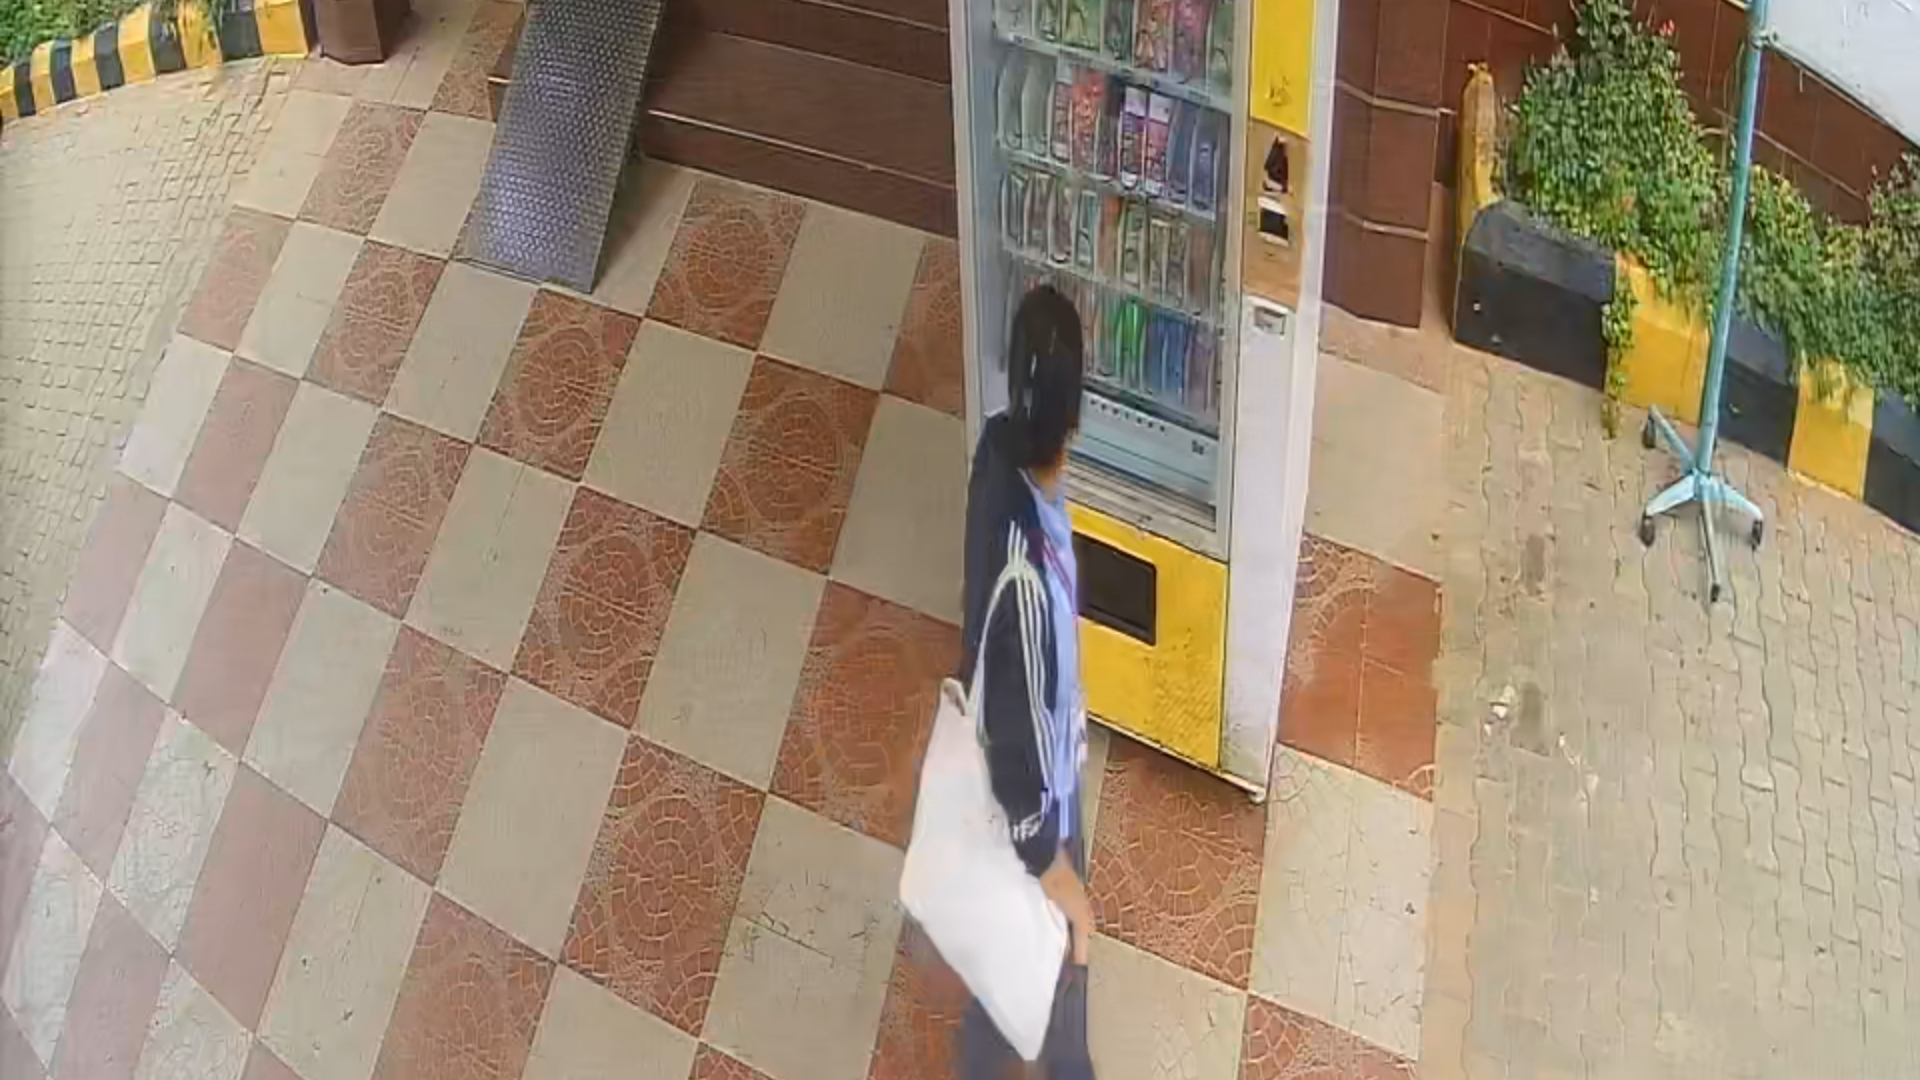intruder: (944, 262, 1135, 1075)
